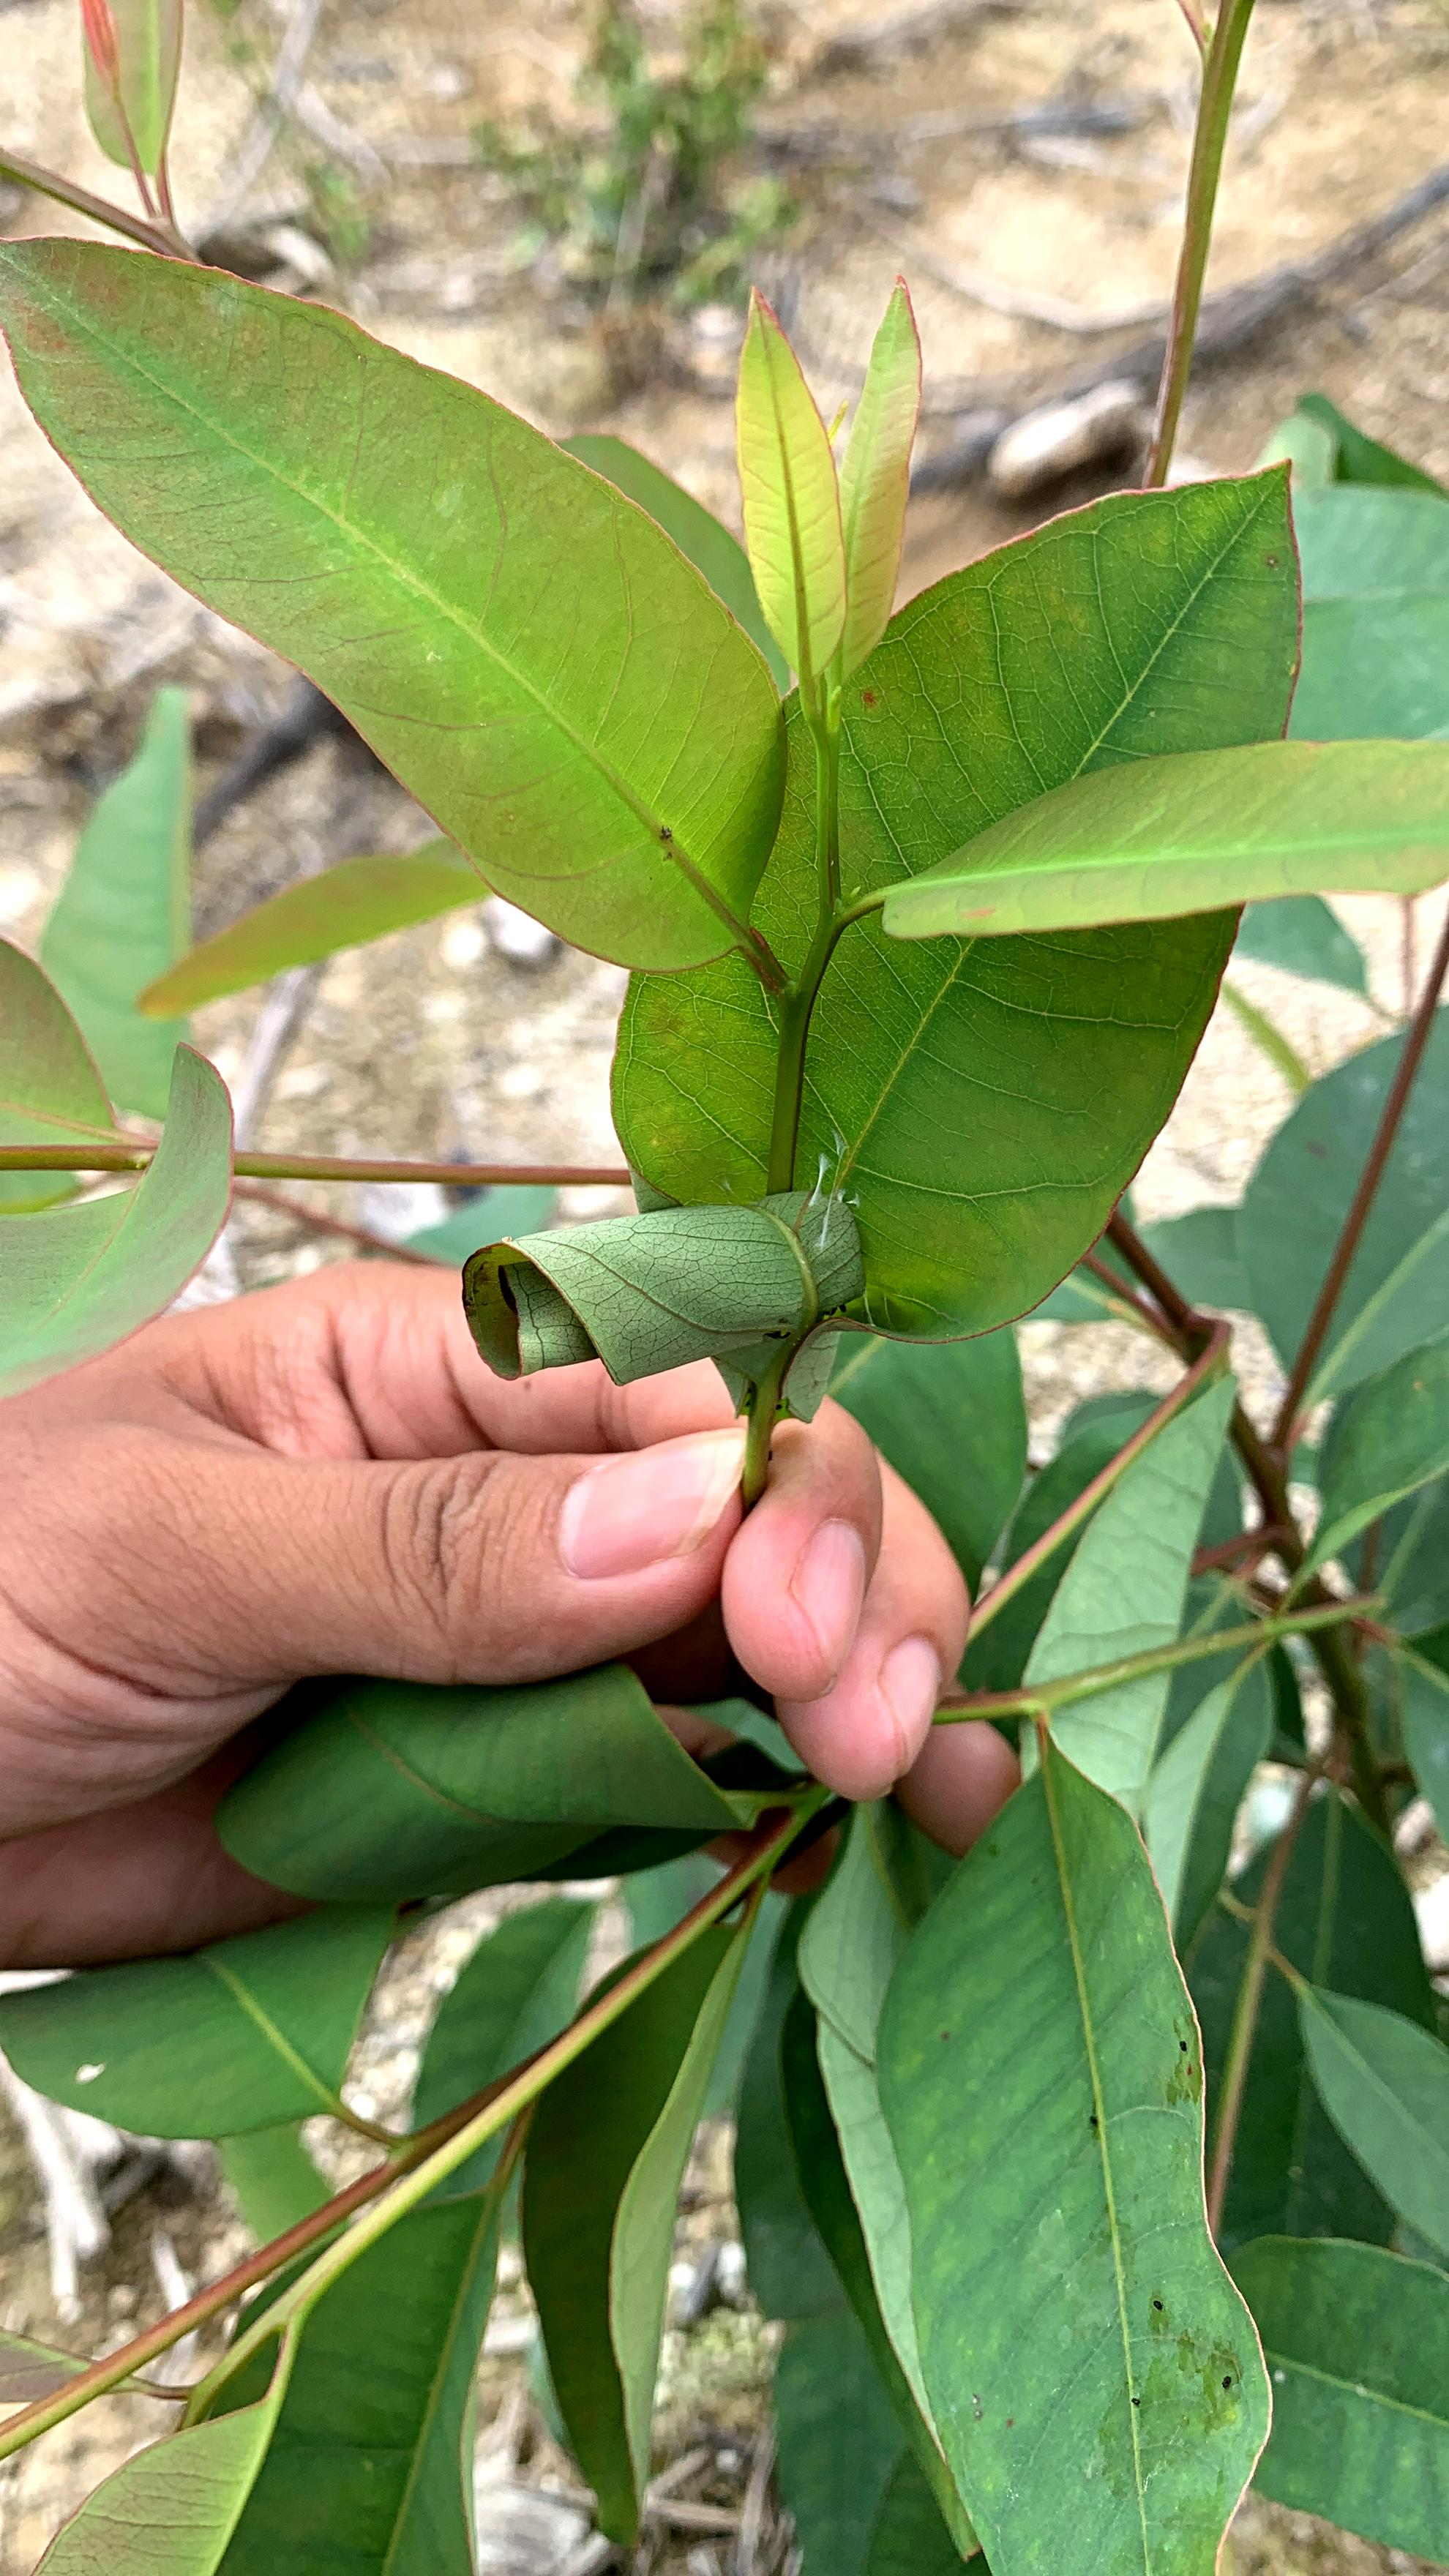Leaf Roller - Leaf: (441, 1158, 931, 1442)
